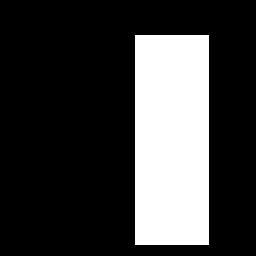person: (135, 35, 208, 244)
